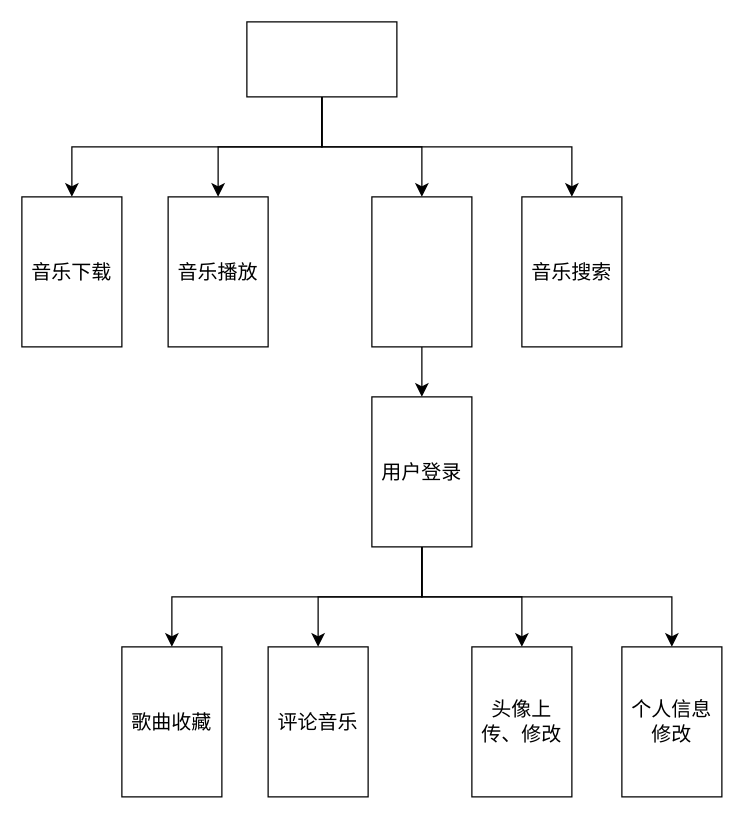
Some shapes in this 744 by 819 pixel diagram are drawn without their labels. The centre of each missing label's shape, as x and y in pixels:
"前台音乐播放用户" belongs at (x=321, y=59).
"用户注册" belongs at (x=421, y=271).
